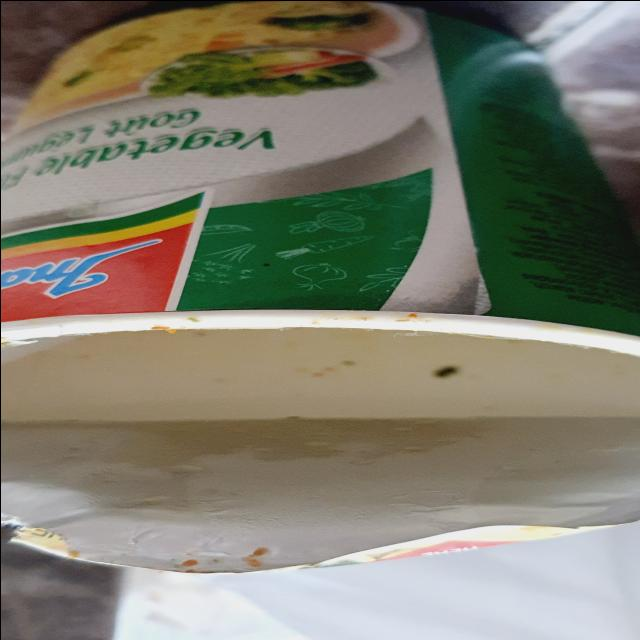paper: (0, 0, 640, 576)
